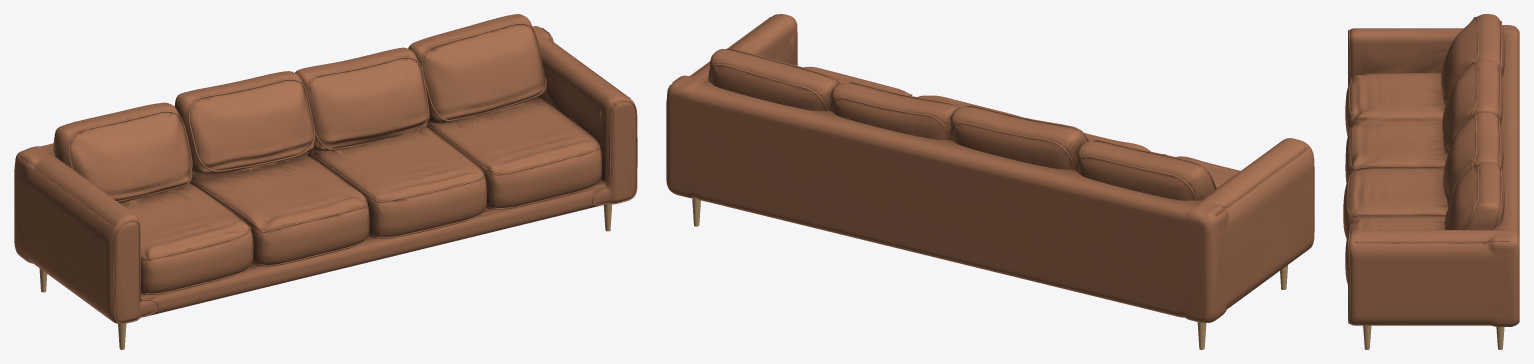
The model's file is cuero-suela.gltf.
3 renders of one model, left to right at view 1: azimuth 30°, elevation 25°; view 2: azimuth 150°, elevation 25°; view 3: azimuth 270°, elevation 25°, orthographic. The views are drawn at different scales.
Parts seen in each view (by area): view 1: tela_ar, madera_ar; view 2: tela_ar, madera_ar; view 3: tela_ar, madera_ar.
Part boxes in pixels (left/top/right/bottom): tela_ar: left=14, top=14, right=637, bottom=323; madera_ar: left=39, top=203, right=612, bottom=349; tela_ar: left=666, top=14, right=1314, bottom=322; madera_ar: left=692, top=198, right=1287, bottom=349; tela_ar: left=1343, top=14, right=1519, bottom=326; madera_ar: left=1363, top=325, right=1504, bottom=349.
Size of the model in its own units: 2.7 by 0.8297 by 0.9224.
2 materials, 2 textured.
